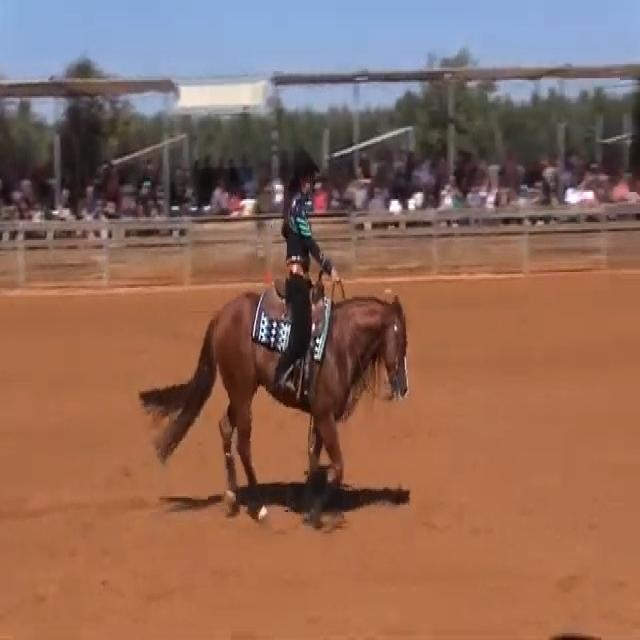horse: (137, 276, 410, 516)
